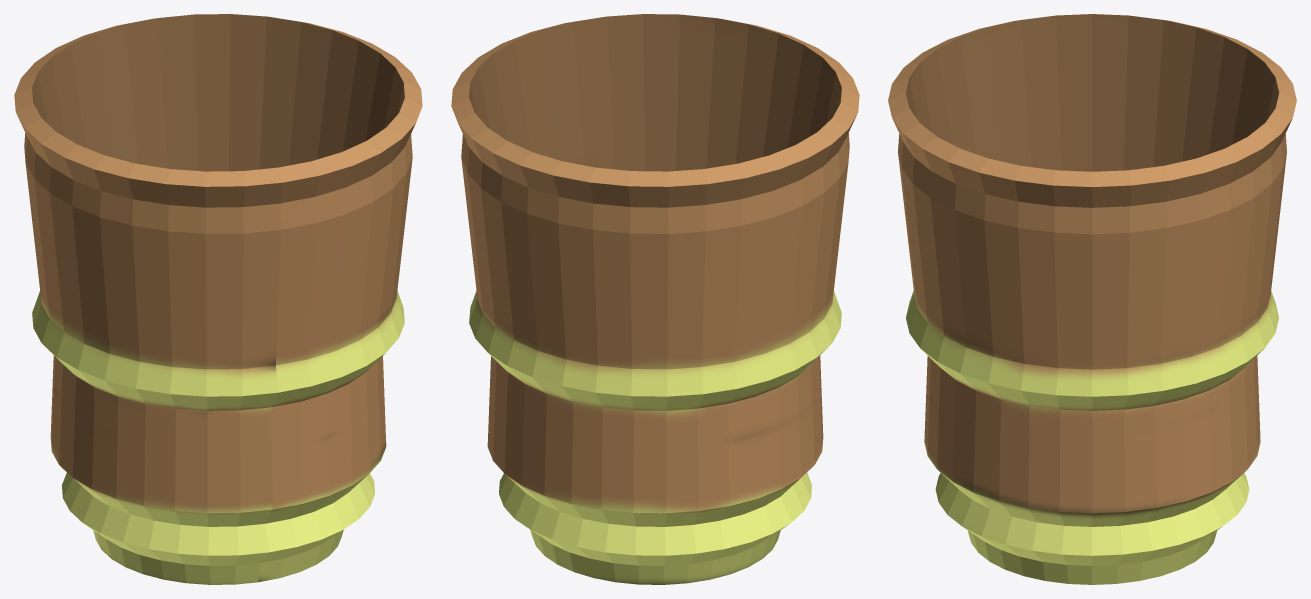
Rendered from copo2.fbx.
3 views of the same model, side by side, from view 1: azimuth 30°, elevation 25°; view 2: azimuth 150°, elevation 25°; view 3: azimuth 270°, elevation 25° (orthographic).
Visible parts, largest first — view 1: Cylinder; view 2: Cylinder; view 3: Cylinder.
Part boxes in pixels (left/top/right/bottom): Cylinder: left=14, top=14, right=422, bottom=584; Cylinder: left=451, top=14, right=859, bottom=584; Cylinder: left=888, top=14, right=1296, bottom=584.
Size of the model in its own units: 202 by 239 by 202.
1 material, 1 textured.
